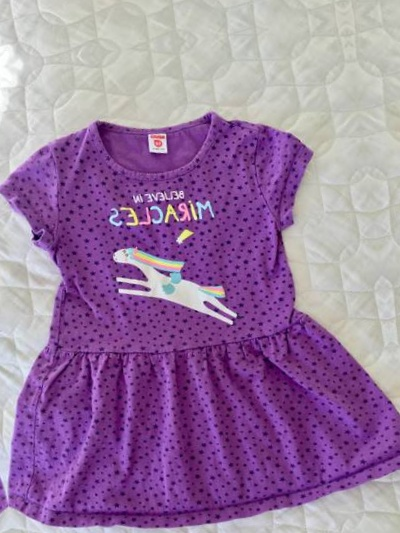Dress: (0, 92, 400, 533), (360, 35, 400, 492), (0, 148, 14, 533), (0, 0, 331, 0)
